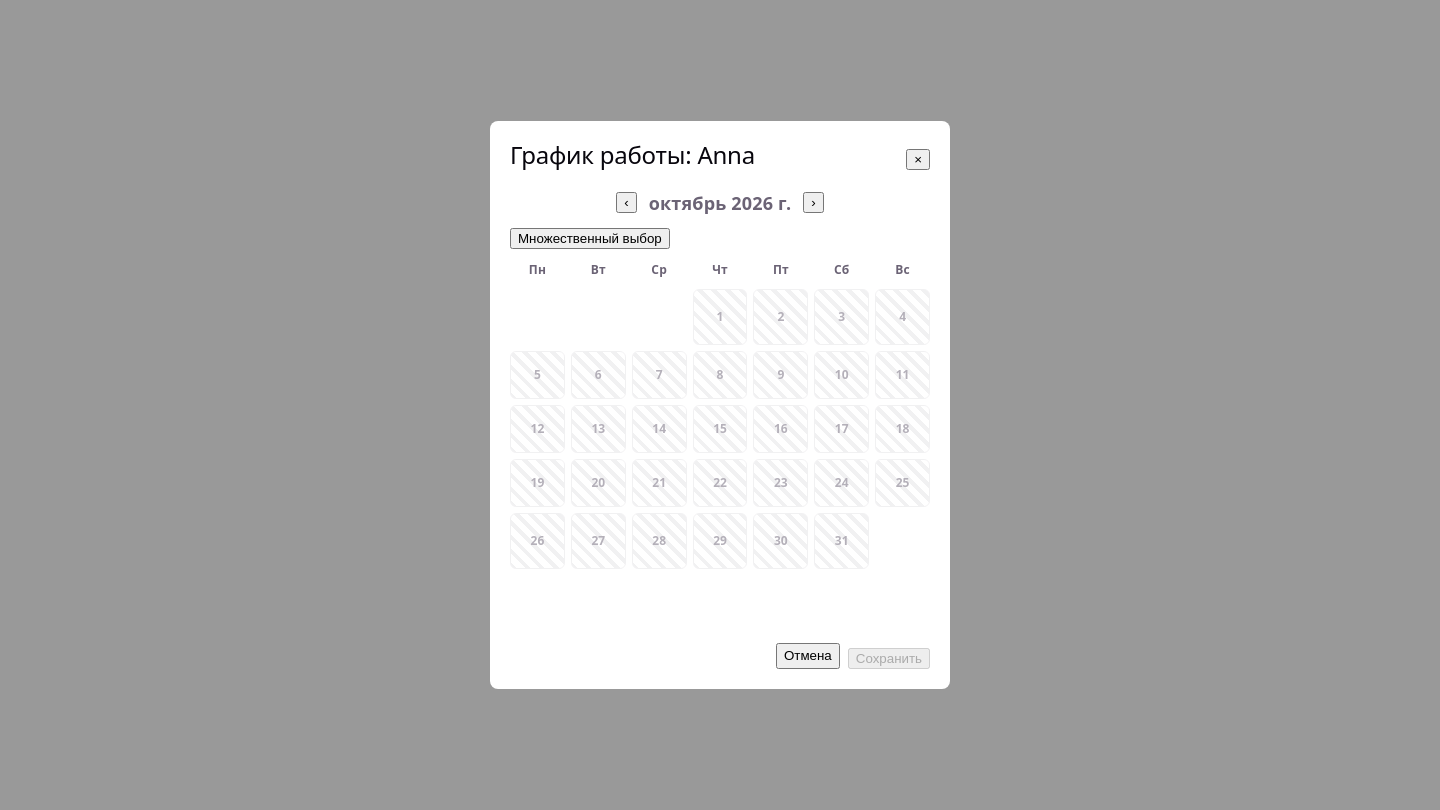
Test: MasterScheduleModal › multi-select mode › clears the whole selection via "Сбросить выбор"
The image size is (1440, 810).
Click the button "Множественный выбор".
click(590, 238)  # box top-left (510, 228), bottom-right (670, 249)
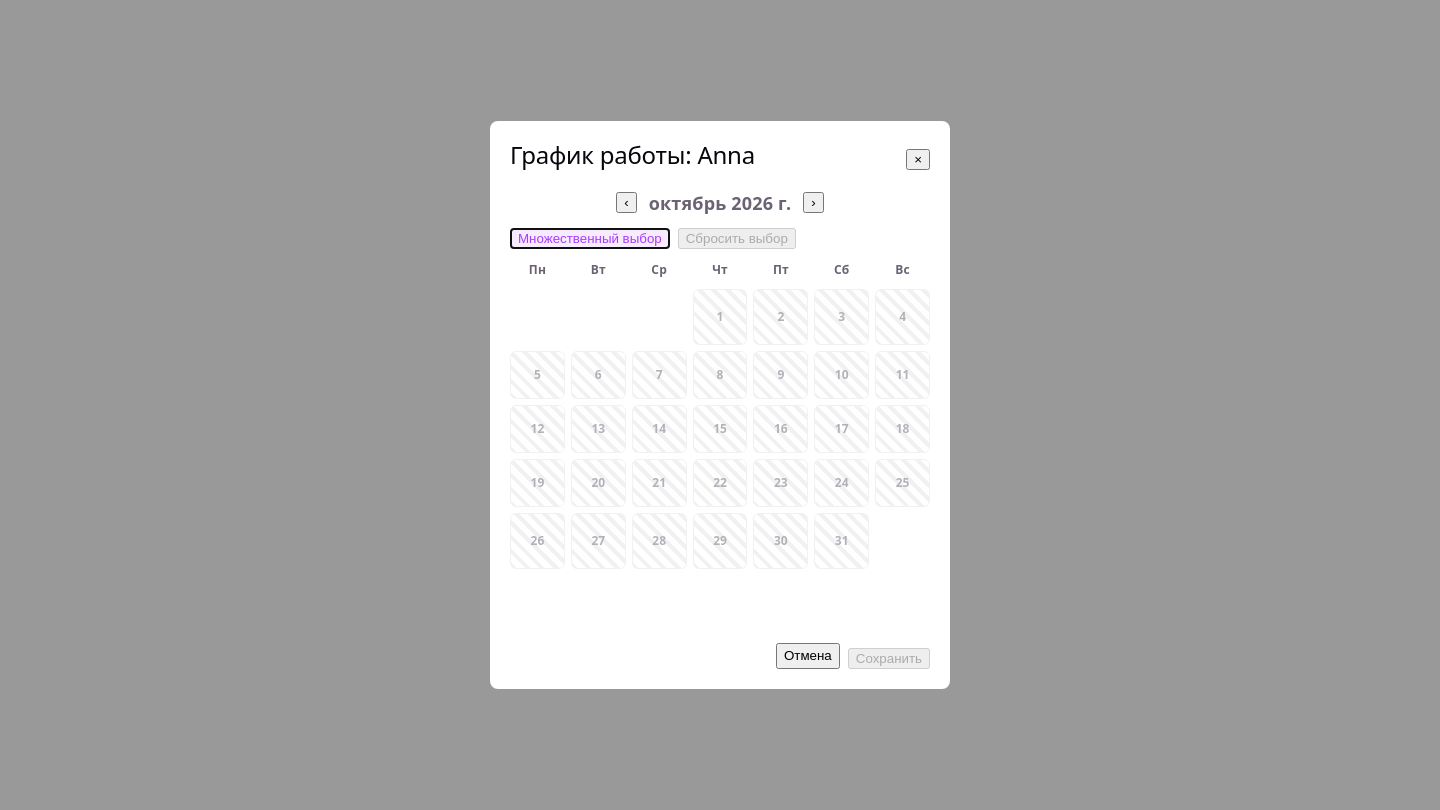
Click the button named "День 1".
click(720, 317)  # box top-left (693, 289), bottom-right (748, 345)
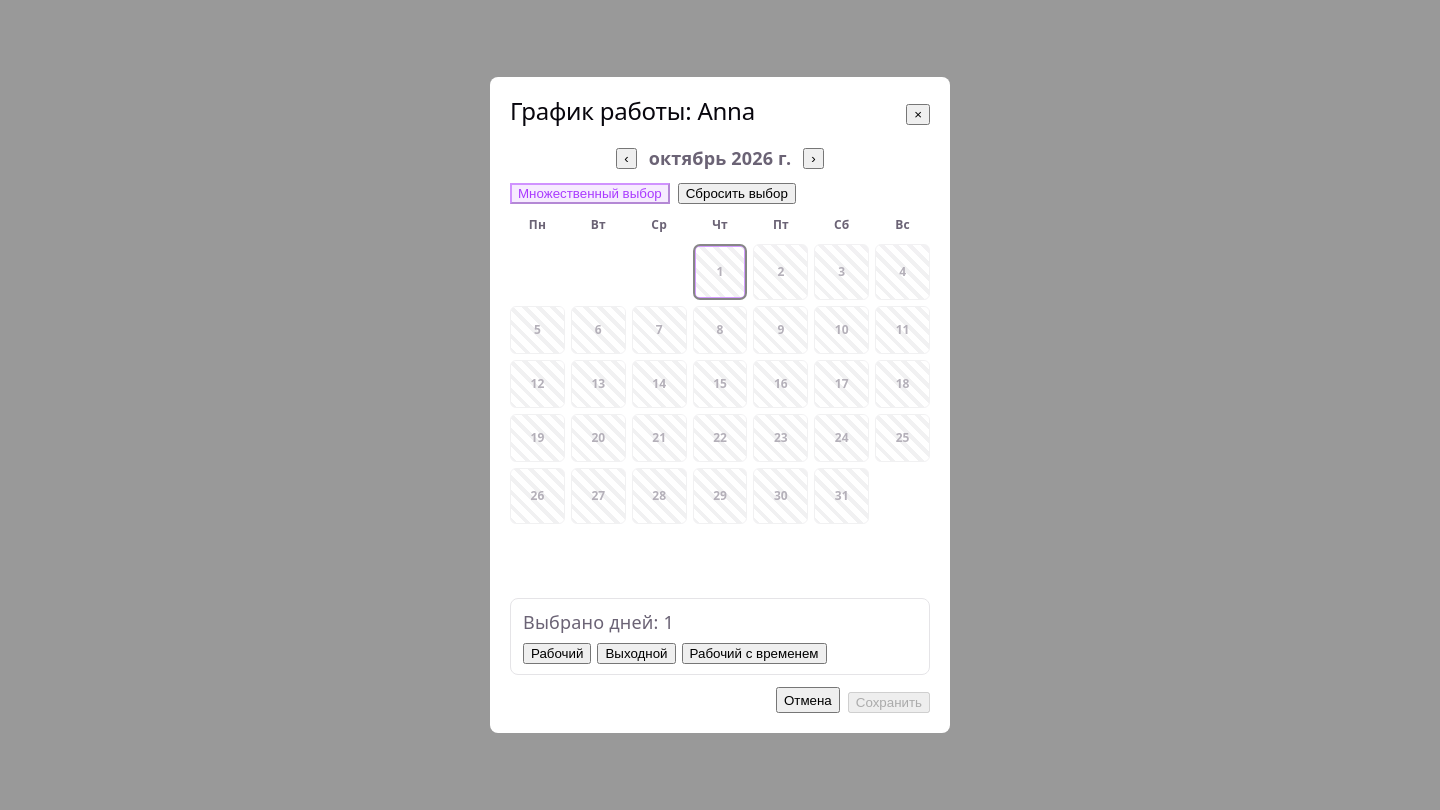
Click the button "2".
click(781, 272)  # box top-left (753, 244), bottom-right (808, 300)
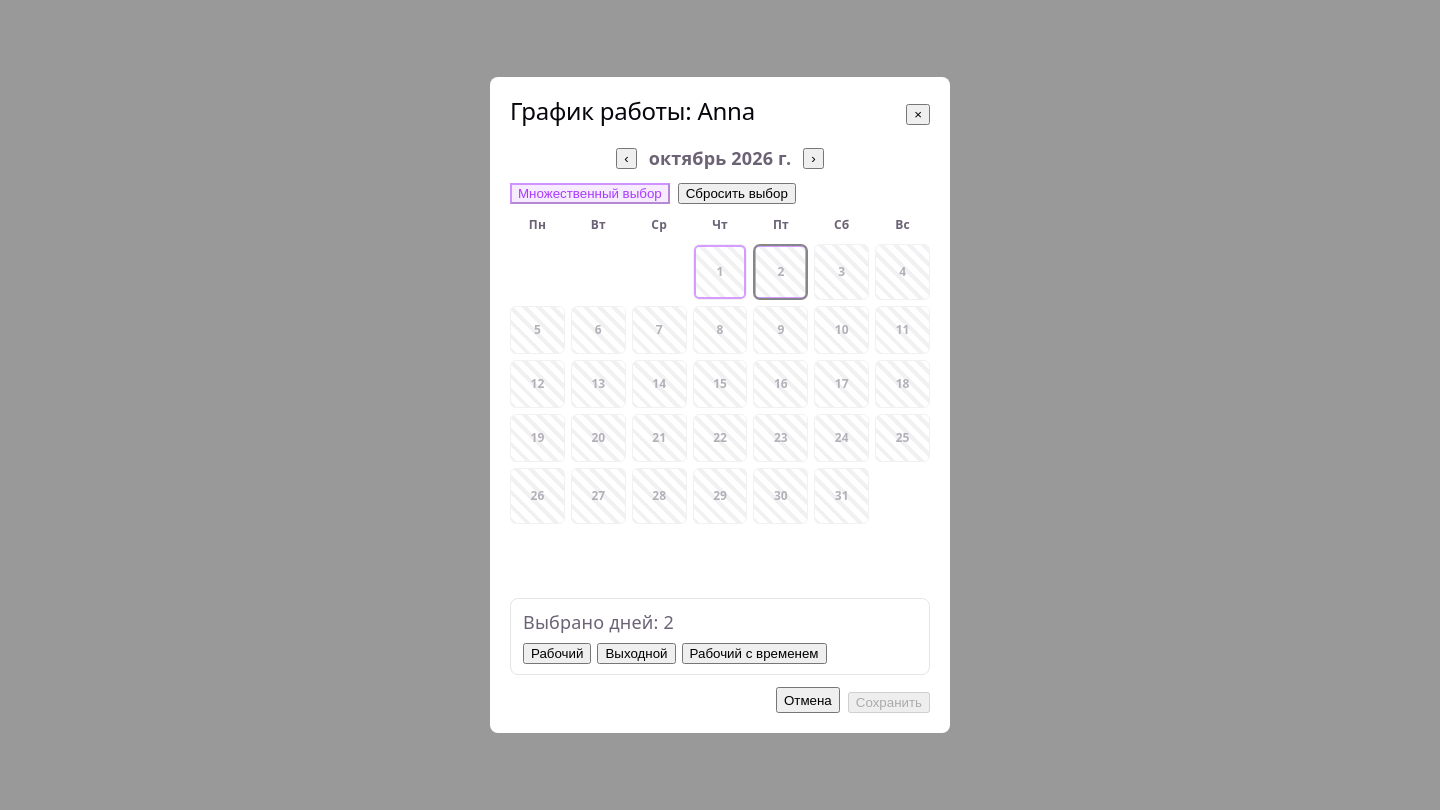
Click the button "Сбросить выбор".
click(737, 194)  # box top-left (678, 183), bottom-right (796, 204)
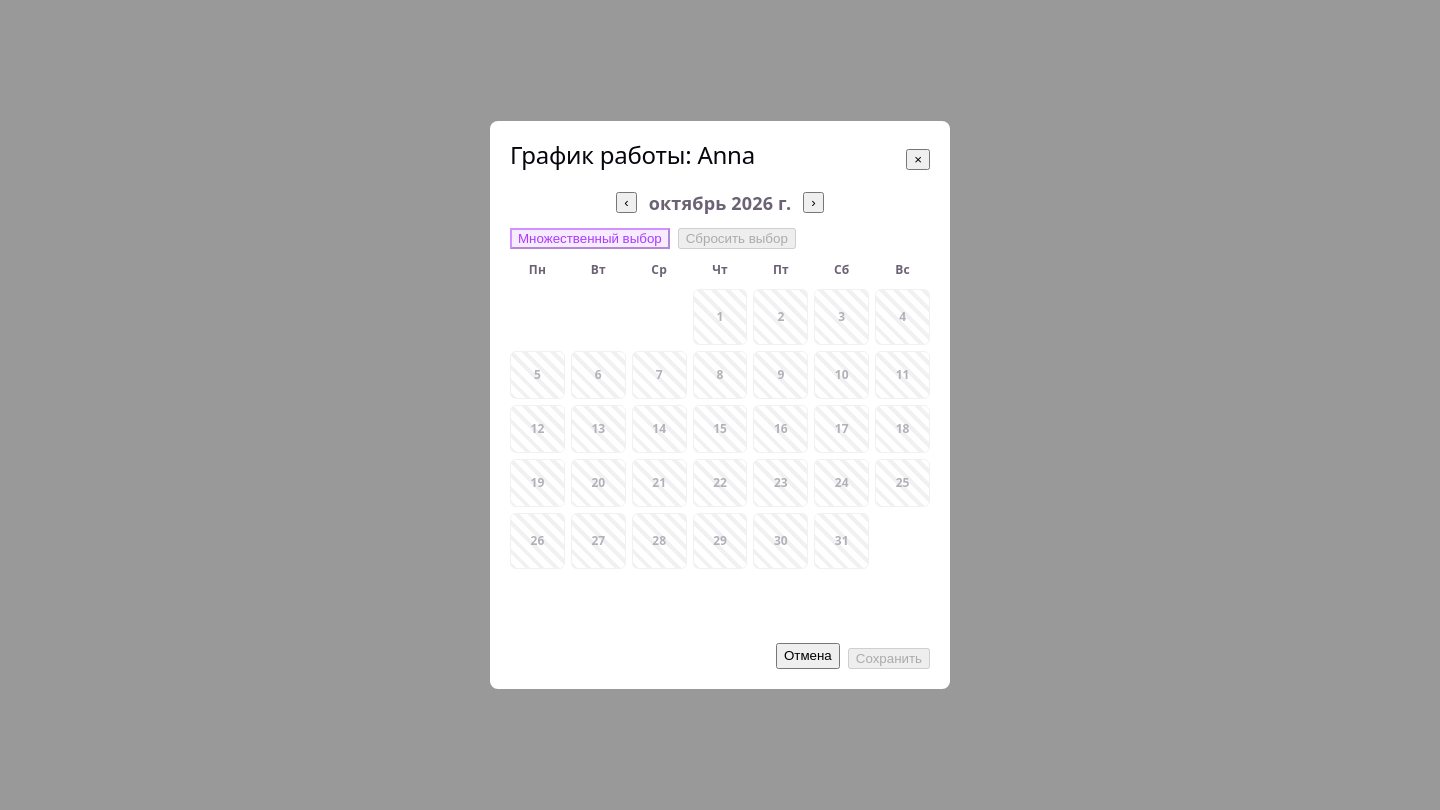
Check: the text "Выбрано дней" is gone
